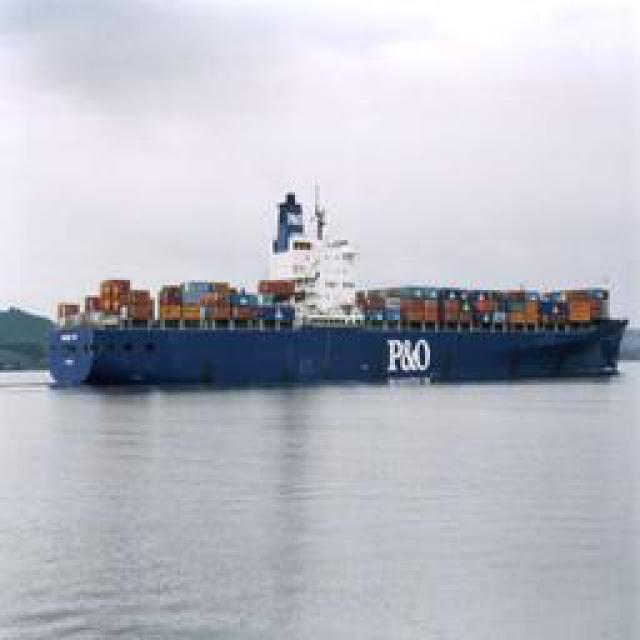Ship: (27, 194, 625, 387)
